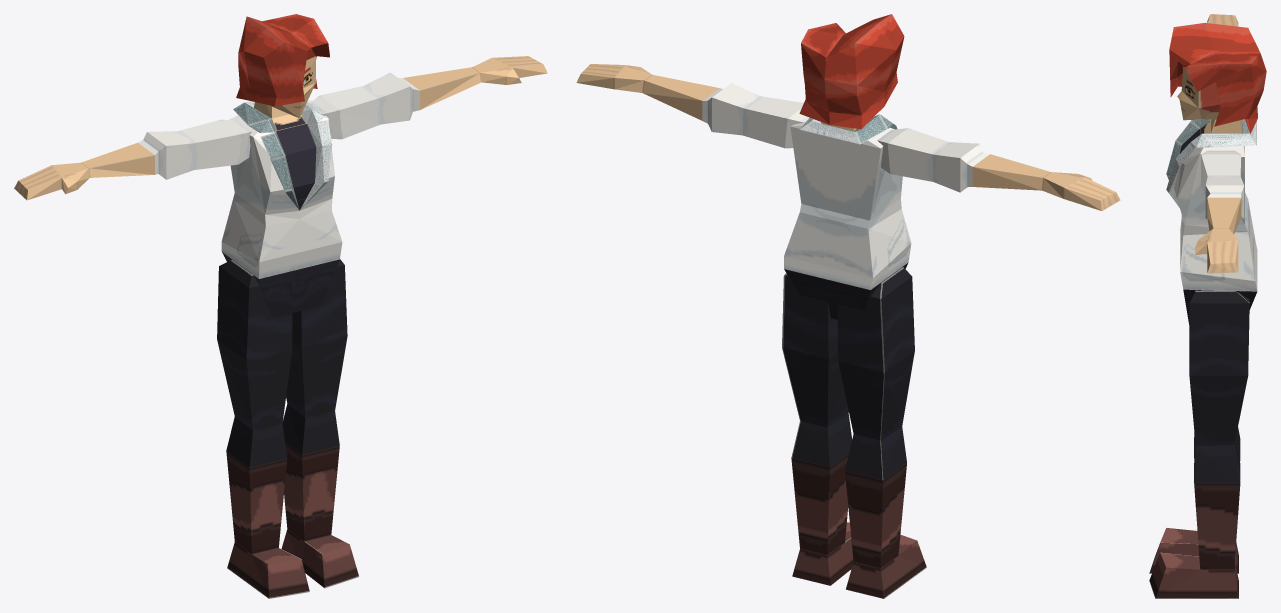
File: Carmen Model.obj
3 views of the same model, side by side, from view 1: azimuth 30°, elevation 25°; view 2: azimuth 150°, elevation 25°; view 3: azimuth 270°, elevation 25° (orthographic). The views are drawn at different scales.
Parts seen in each view (by area): view 1: Default; view 2: Default; view 3: Default.
Part boxes in pixels (box(x1,y1,x2,y2)): Default: box(14, 14, 547, 598); Default: box(576, 14, 1120, 598); Default: box(1149, 14, 1266, 598).
Bounding box in the file's own units: 24.18 × 24.25 × 4.75.
